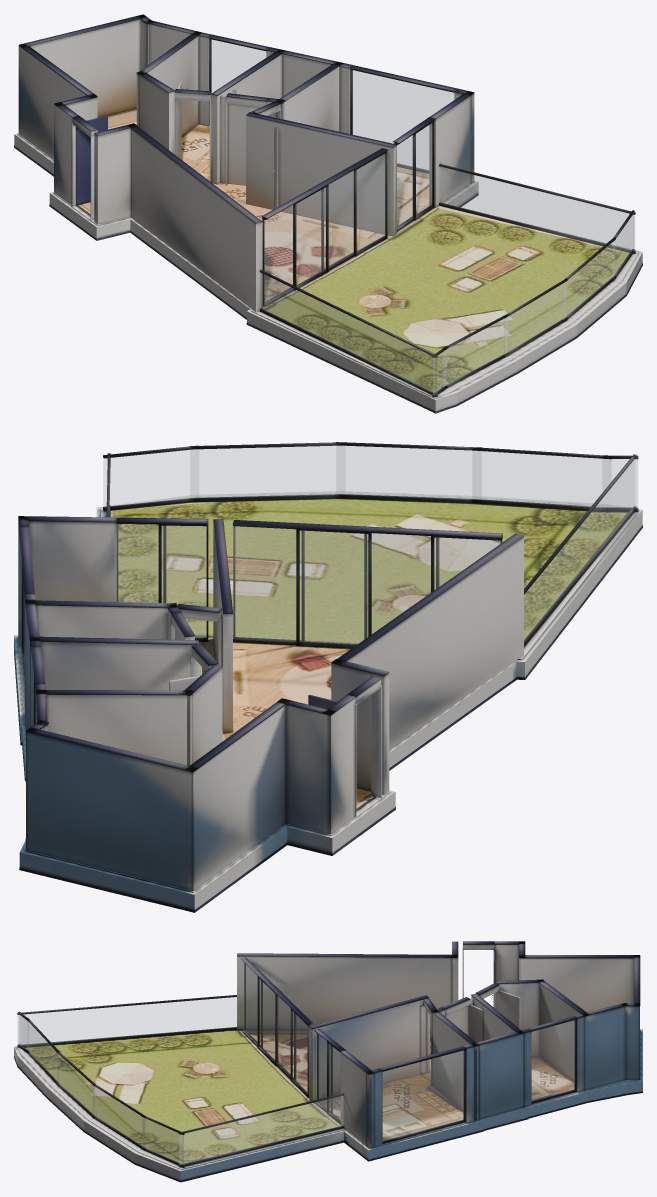
3 renders of one model, top to bottom at view 1: azimuth 30°, elevation 25°; view 2: azimuth 150°, elevation 25°; view 3: azimuth 270°, elevation 25°, orthographic. The views are drawn at different scales.
Parts seen in each view (by area): view 1: plan, glass2_m, railg0_m, railg6_m, glass1_m, glass3_m, railg4_m, railg3_m, railg2_m, glass0_m, railg1_m; view 2: plan, glass2_m, railg2_m, railg3_m, glass3_m, railg4_m, railg6_m, railg1_m, railg5_m; view 3: plan, railg6_m, glass1_m, railg0_m, glass2_m, glass0_m, railg2_m, glass3_m, railg1_m, railg3_m, railg4_m.
Part boxes in pixels (x1=…): plan: x1=14, y1=14, x2=642, y2=413; glass2_m: x1=264, y1=154, x2=384, y2=303; railg0_m: x1=439, y1=167, x2=634, y2=250; railg6_m: x1=261, y1=273, x2=436, y2=393; glass1_m: x1=352, y1=70, x2=453, y2=170; glass3_m: x1=397, y1=123, x2=431, y2=228; railg4_m: x1=443, y1=317, x2=508, y2=386; railg3_m: x1=504, y1=281, x2=566, y2=354; railg2_m: x1=563, y1=241, x2=614, y2=319; glass0_m: x1=211, y1=39, x2=266, y2=92; railg1_m: x1=613, y1=215, x2=633, y2=277; plan: x1=14, y1=442, x2=642, y2=912; glass2_m: x1=233, y1=526, x2=500, y2=644; railg2_m: x1=190, y1=446, x2=345, y2=498; railg3_m: x1=336, y1=446, x2=481, y2=499; glass3_m: x1=117, y1=524, x2=206, y2=637; railg4_m: x1=472, y1=451, x2=611, y2=507; railg6_m: x1=524, y1=460, x2=634, y2=641; railg1_m: x1=103, y1=449, x2=198, y2=507; railg5_m: x1=602, y1=459, x2=637, y2=507; plan: x1=14, y1=941, x2=642, y2=1182; railg6_m: x1=17, y1=997, x2=236, y2=1044; glass1_m: x1=383, y1=1050, x2=463, y2=1141; railg0_m: x1=179, y1=1096, x2=343, y2=1164; glass2_m: x1=243, y1=962, x2=307, y2=1092; glass0_m: x1=532, y1=1020, x2=574, y2=1101; railg2_m: x1=92, y1=1085, x2=145, y2=1148; glass3_m: x1=316, y1=1033, x2=340, y2=1119; railg1_m: x1=142, y1=1117, x2=183, y2=1165; railg3_m: x1=57, y1=1053, x2=94, y2=1115; railg4_m: x1=27, y1=1021, x2=59, y2=1083.
Bounding box in the file's own units: 10.23 × 2.62 × 17.39.
2 materials, 1 textured.
